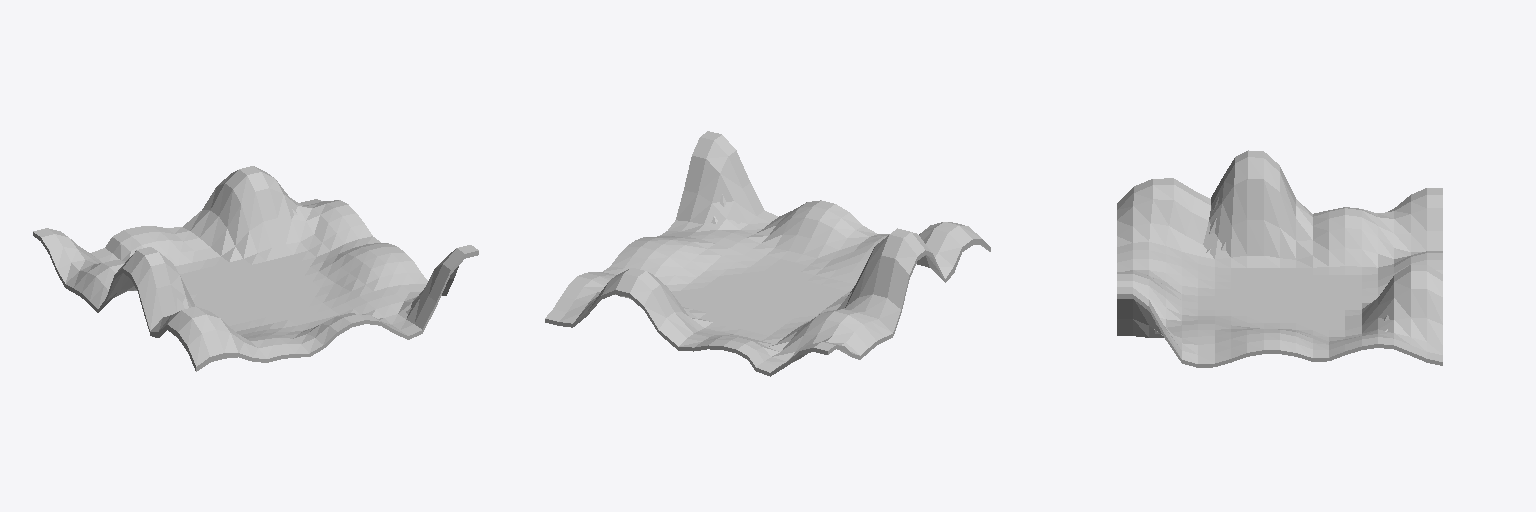
File: Land_Mesh.obj
3 renders of one model, left to right at view 1: azimuth 30°, elevation 25°; view 2: azimuth 150°, elevation 25°; view 3: azimuth 270°, elevation 25°, orthographic.
Parts seen in each view (by area): view 1: initialShadingGroup Planet1Ground1:pCube1; view 2: initialShadingGroup Planet1Ground1:pCube1; view 3: initialShadingGroup Planet1Ground1:pCube1.
Part boxes in pixels (left/top/right/bottom): initialShadingGroup Planet1Ground1:pCube1: left=33, top=166, right=478, bottom=371; initialShadingGroup Planet1Ground1:pCube1: left=545, top=131, right=990, bottom=376; initialShadingGroup Planet1Ground1:pCube1: left=1117, top=150, right=1442, bottom=367.
Bounding box in the file's own units: 55.02 × 16.16 × 55.02.